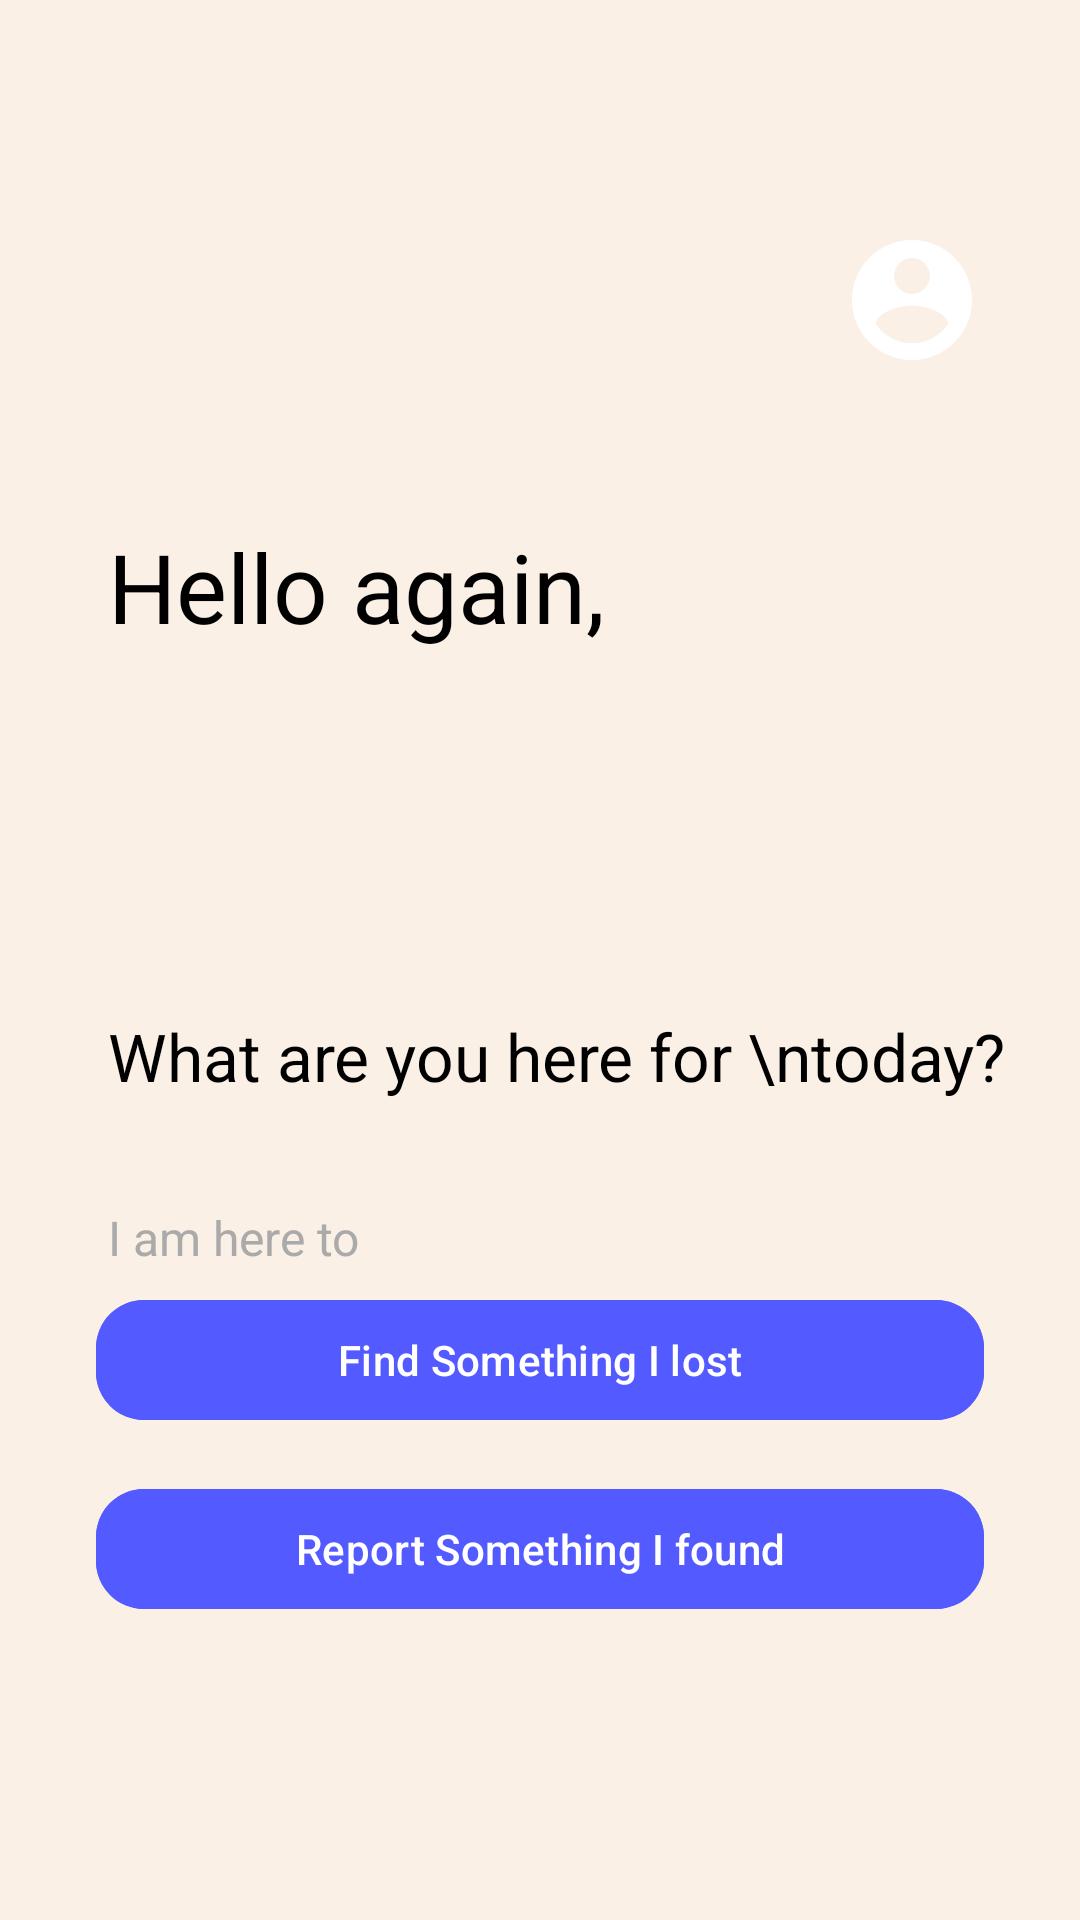

Screen size 1080px x 1920px. Icon name, then its center in pixels as [x,y]:
account: [912,300]
